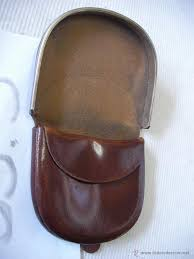monedero: (29, 7, 157, 254)
